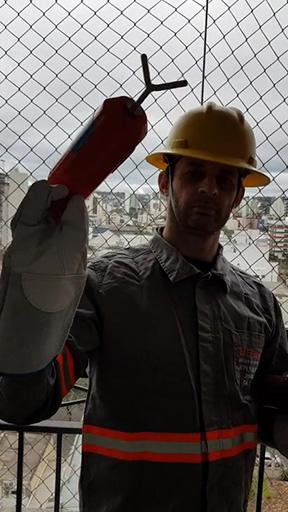Detector_Tensao_Contato: (46, 54, 188, 207)
